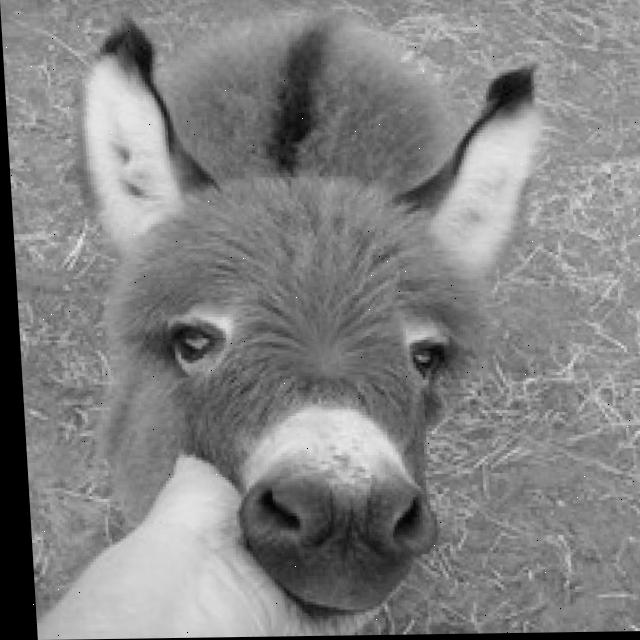Donkey: (69, 0, 571, 619)
